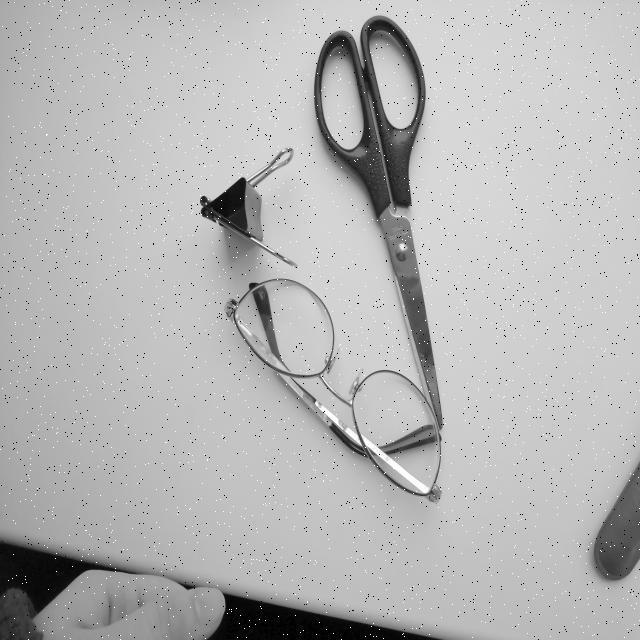scissors: (291, 2, 464, 445)
